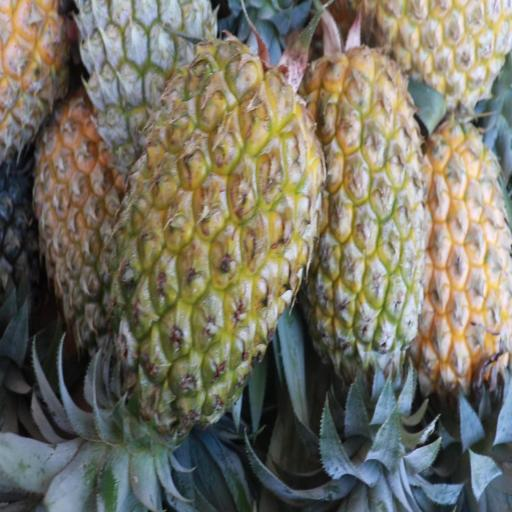Pineapple - v8 v1: (113, 58, 320, 418), (300, 58, 424, 370), (416, 115, 512, 382), (347, 0, 512, 124)
